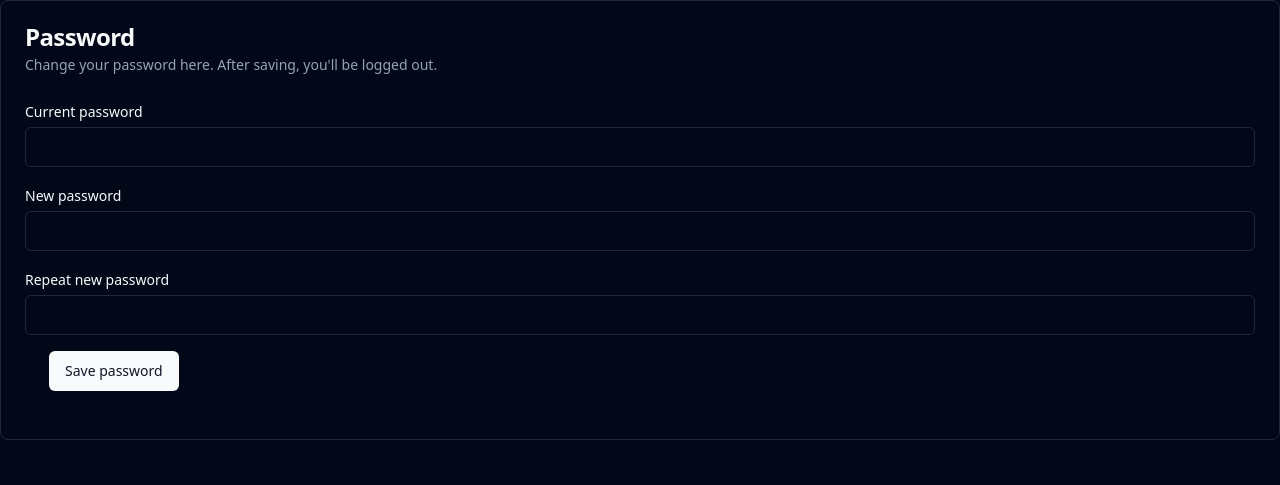
Test: PasswordTab › displays an error if new password and repeat new password do not match
Type "current123" into the password field labelled "Current password" at (640, 147), box left=25, top=127, right=1255, bottom=167
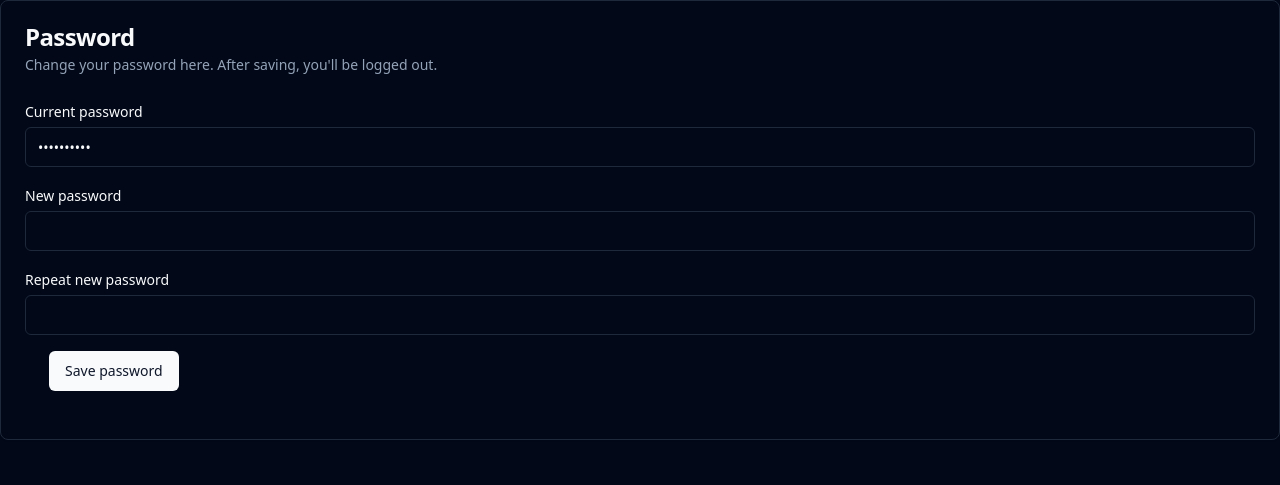
Type "new123" into the password field labelled "New password" at (640, 231), box left=25, top=211, right=1255, bottom=251
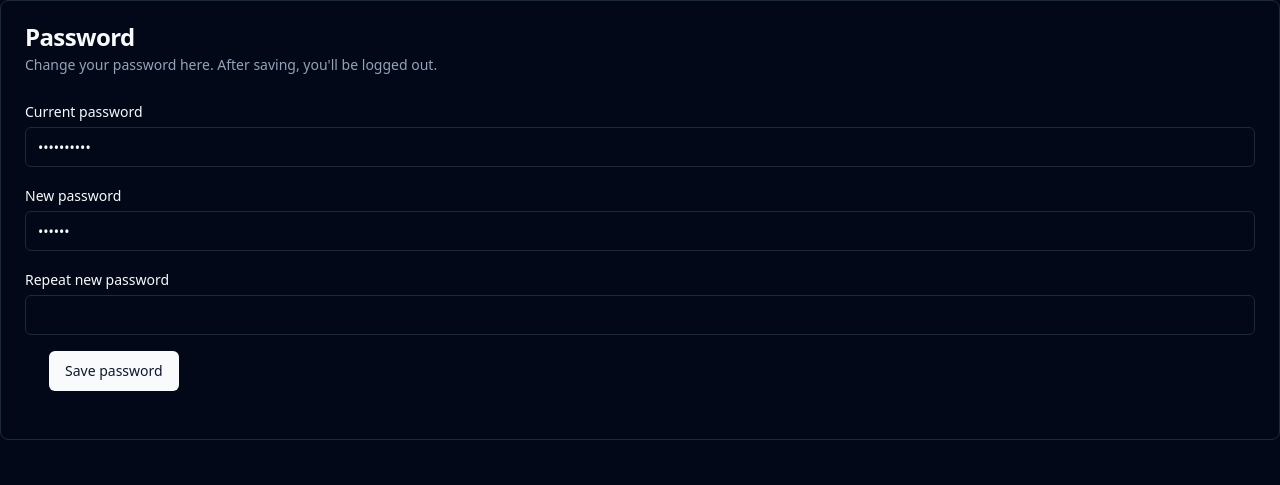
Type "new124" into the password field labelled "Repeat new password" at (640, 315), box left=25, top=295, right=1255, bottom=335
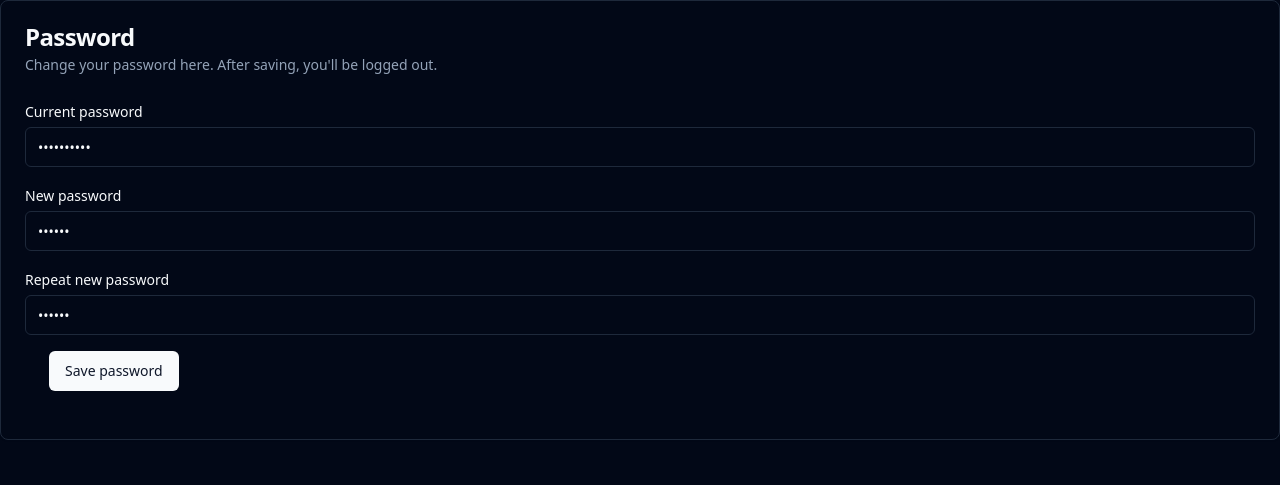
Click the button "Save password" at (114, 371), box left=49, top=351, right=179, bottom=391
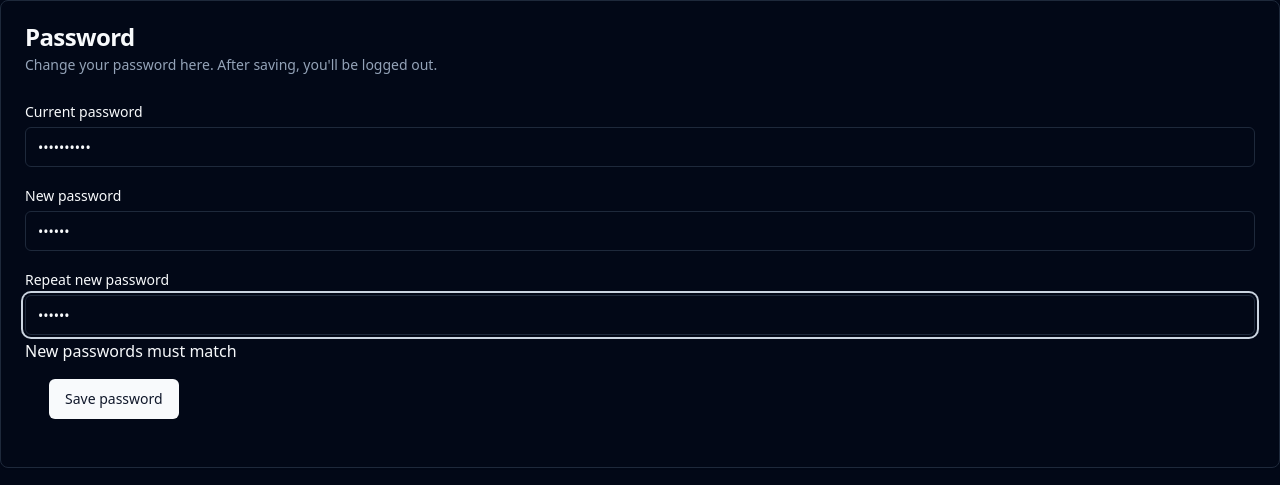
Check: the text "New passwords must match" is shown, box left=25, top=340, right=237, bottom=362
